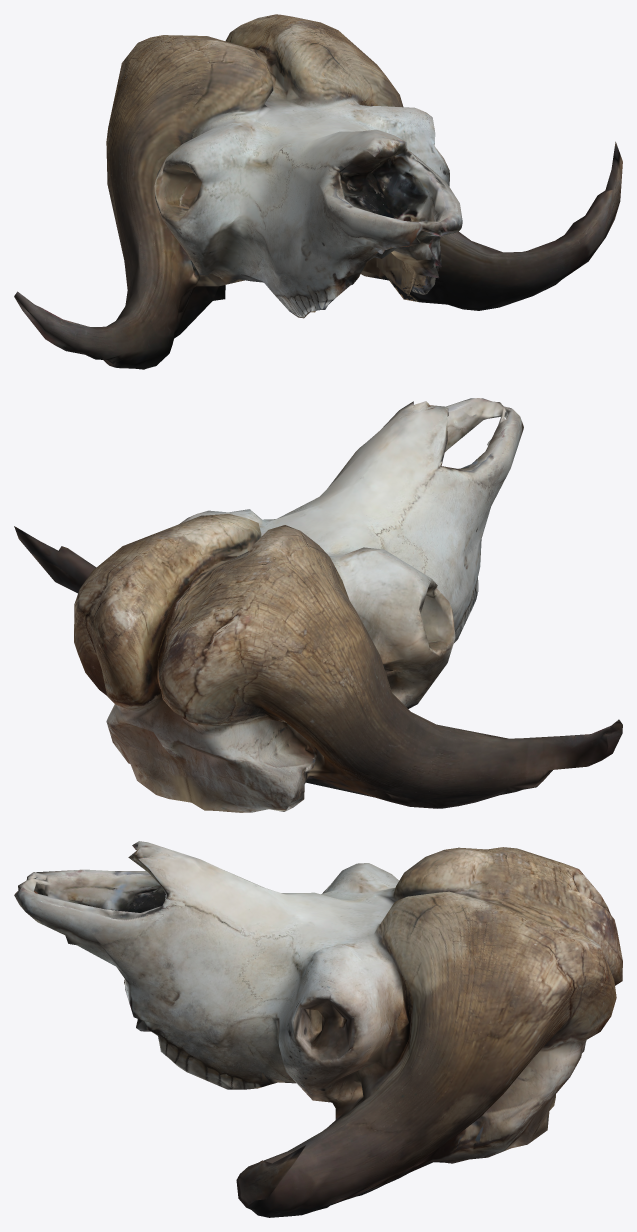
File: Pri_Ox_Skull.fbx
3 renders of one model, top to bottom at view 1: azimuth 30°, elevation 25°; view 2: azimuth 150°, elevation 25°; view 3: azimuth 270°, elevation 25°, orthographic. The views are drawn at different scales.
Parts seen in each view (by area): view 1: Pri_Ox_Skull_LOD0; view 2: Pri_Ox_Skull_LOD0; view 3: Pri_Ox_Skull_LOD0.
Boxes of the visible parts, <box> form: Pri_Ox_Skull_LOD0: <box>14,14,622,369</box>; Pri_Ox_Skull_LOD0: <box>14,398,622,812</box>; Pri_Ox_Skull_LOD0: <box>14,841,622,1217</box>.
Size of what is drawn, in the model's own units: 179 by 77.26 by 152.
